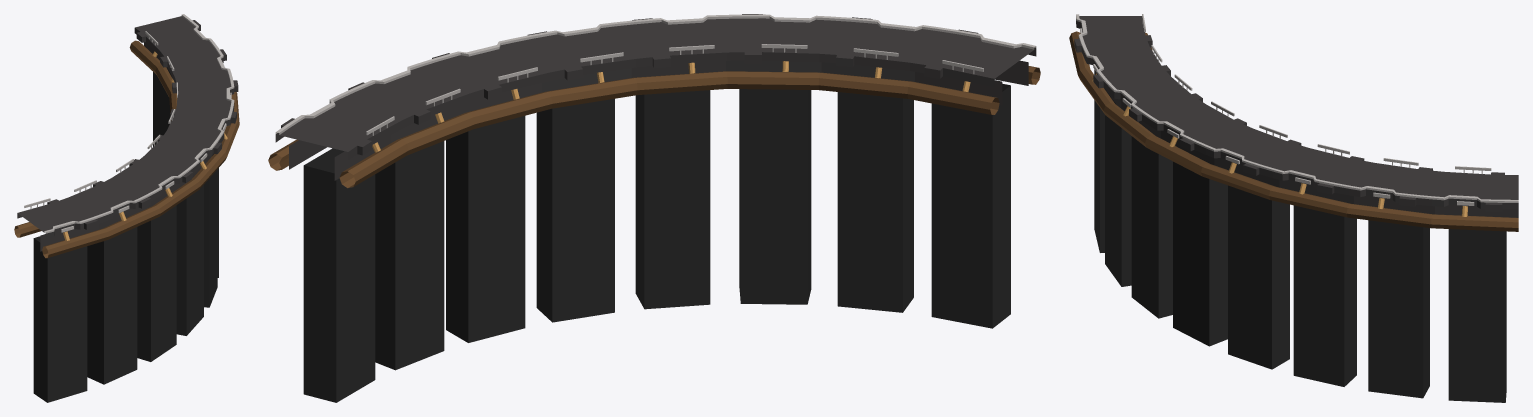
The model's file is road_bend_type_01.fbx.
The picture shows the model from 3 angles, left to right: view 1: azimuth 30°, elevation 25°; view 2: azimuth 150°, elevation 25°; view 3: azimuth 270°, elevation 25°; orthographic projection. The views are drawn at different scales.
Parts seen in each view (by area): view 1: road_bend_type_01; view 2: road_bend_type_01; view 3: road_bend_type_01.
Boxes of the visible parts, x1,y1,x2,y2 form: road_bend_type_01: [14, 14, 239, 402]; road_bend_type_01: [268, 14, 1040, 402]; road_bend_type_01: [1069, 14, 1518, 402].
Bounding box in the file's own units: 2027 × 1063 × 2027.
1 material, 1 textured.
